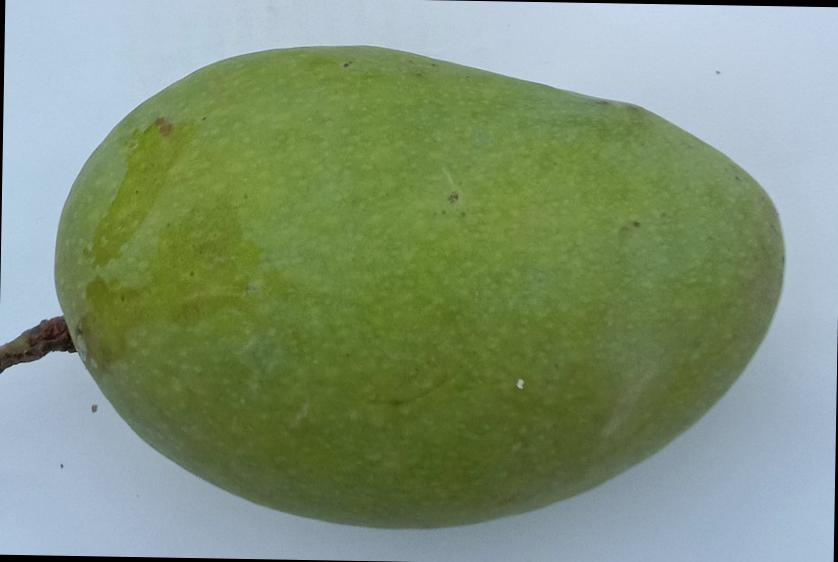Mango Unripe: (25, 30, 816, 528)
